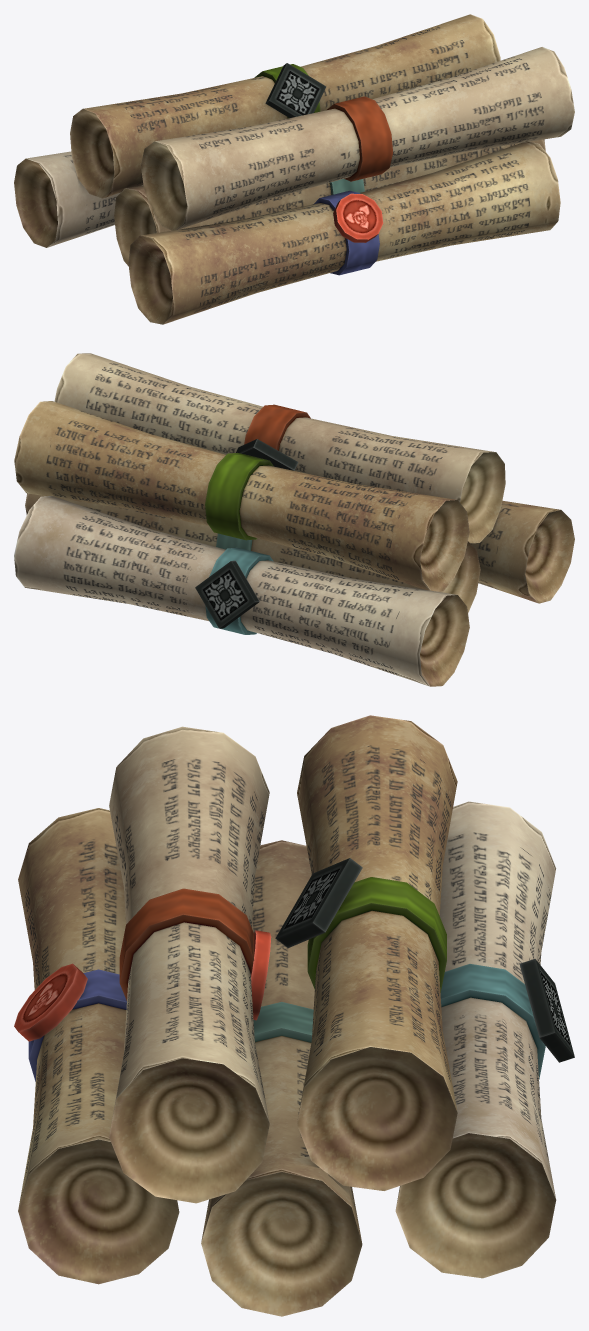
File: DS_WizLab_Clut_ScrollPile.fbx
3 views of the same model, one above another, from view 1: azimuth 30°, elevation 25°; view 2: azimuth 150°, elevation 25°; view 3: azimuth 270°, elevation 25° (orthographic). The views are drawn at different scales.
Parts seen in each view (by area): view 1: DS_WizLab_Clut_ScrollPile; view 2: DS_WizLab_Clut_ScrollPile; view 3: DS_WizLab_Clut_ScrollPile.
Part boxes in pixels (x1,y1,x2,y2): DS_WizLab_Clut_ScrollPile: (14, 14, 574, 324); DS_WizLab_Clut_ScrollPile: (14, 353, 574, 686); DS_WizLab_Clut_ScrollPile: (14, 715, 574, 1316).
Bounding box in the file's own units: 48.4 × 16.55 × 30.78.
1 material, 1 textured.
